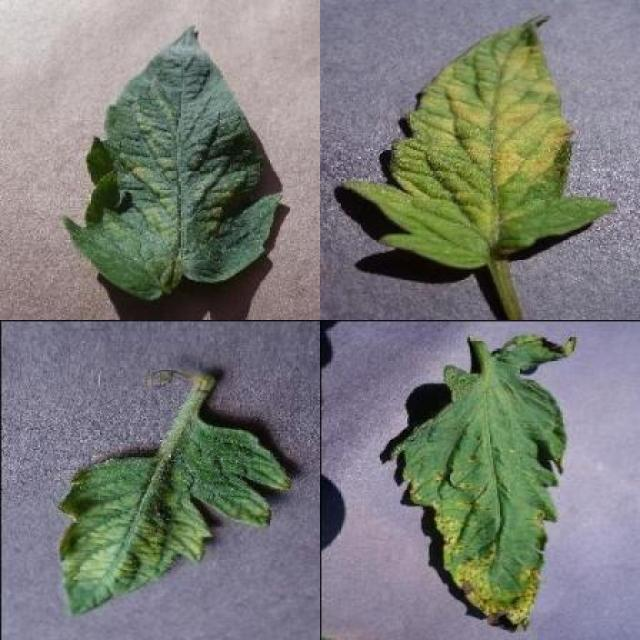Leaf Mold: (342, 15, 618, 272)
Mosaic Virus: (56, 422, 290, 622)
Septoria: (390, 333, 574, 633)
Spider Mites: (62, 27, 281, 300)
